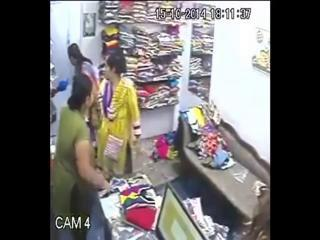Normal: (50, 74, 113, 240), (96, 52, 142, 180)
